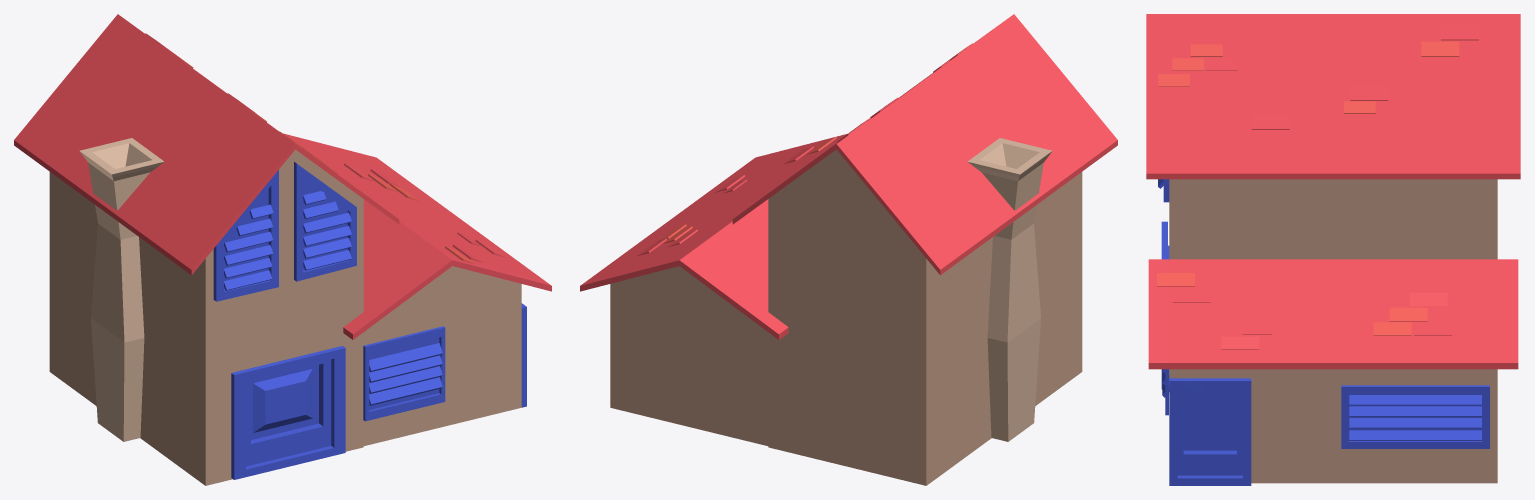
File: house_type_2.obj
3 renders of one model, left to right at view 1: azimuth 30°, elevation 25°; view 2: azimuth 150°, elevation 25°; view 3: azimuth 270°, elevation 25°, orthographic. The views are drawn at different scales.
Parts seen in each view (by area): view 1: house_type_2; view 2: house_type_2; view 3: house_type_2.
Boxes of the visible parts, x1,y1,x2,y2 form: house_type_2: (14,14,551,485); house_type_2: (580,14,1117,485); house_type_2: (1146,14,1520,485).
Bounding box in the file's own units: 4.67 × 4 × 3.89.
